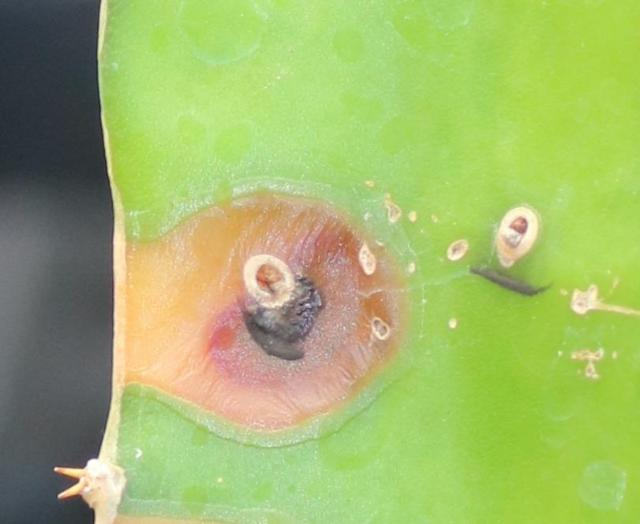stemcanker: (122, 181, 402, 444)
